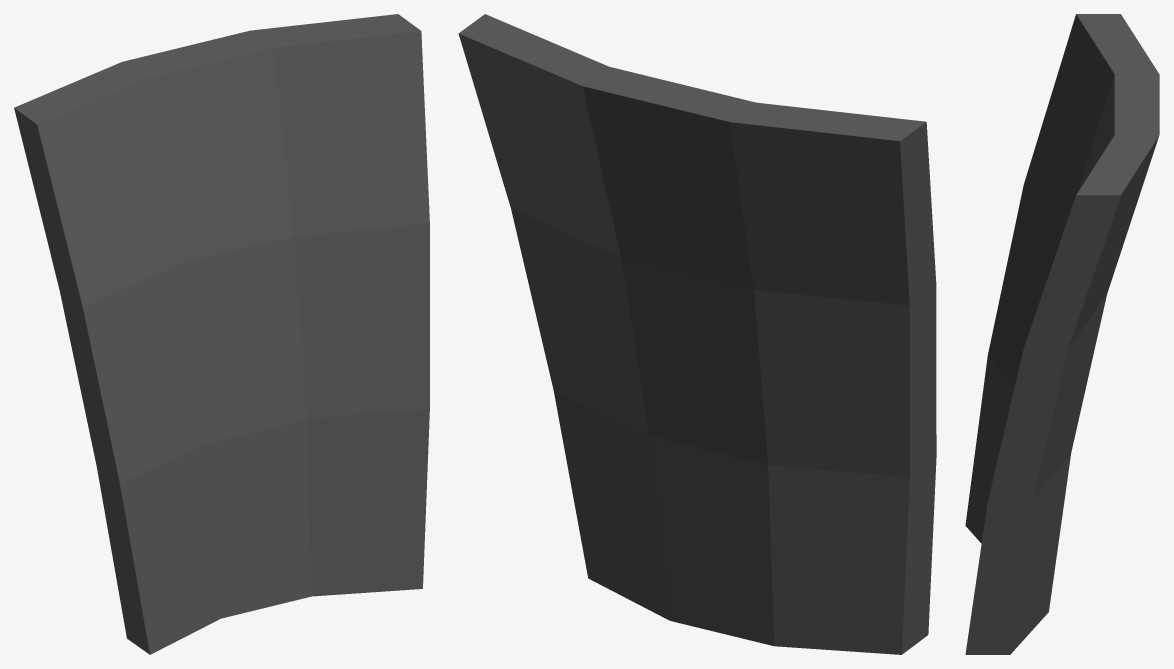
The model's file is Itr_Chair2_Back_04.FBX.
3 renders of one model, left to right at view 1: azimuth 30°, elevation 25°; view 2: azimuth 150°, elevation 25°; view 3: azimuth 270°, elevation 25°, orthographic. The views are drawn at different scales.
Parts seen in each view (by area): view 1: Itr_Chair2_Back_04; view 2: Itr_Chair2_Back_04; view 3: Itr_Chair2_Back_04.
Boxes of the visible parts, bbox=[...] form: Itr_Chair2_Back_04: bbox=[14, 14, 429, 654]; Itr_Chair2_Back_04: bbox=[458, 14, 936, 654]; Itr_Chair2_Back_04: bbox=[965, 14, 1159, 654].
Size of the model in its own units: 15.44 by 19.29 by 6.99.
